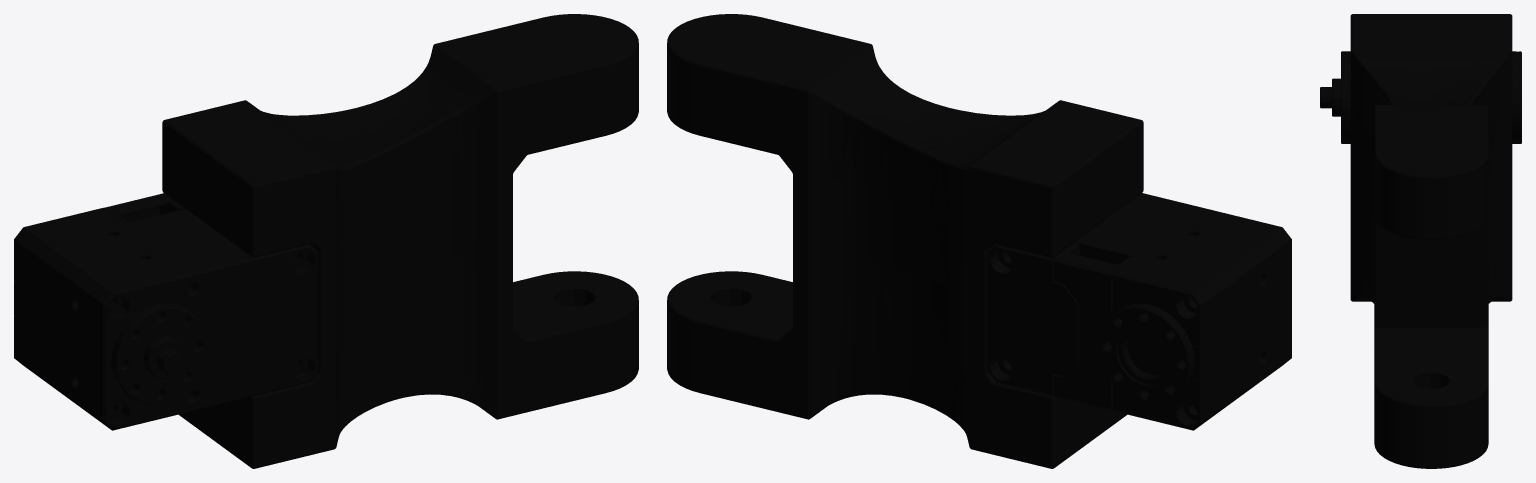
File: arm_proximal_link.obj
The picture shows the model from 3 angles, left to right: view 1: azimuth 30°, elevation 25°; view 2: azimuth 150°, elevation 25°; view 3: azimuth 270°, elevation 25°; orthographic projection. The views are drawn at different scales.
Parts seen in each view (by area): view 1: arm_proximal_link; view 2: arm_proximal_link; view 3: arm_proximal_link.
Boxes of the visible parts, bbox=[...] form: arm_proximal_link: bbox=[14, 14, 638, 468]; arm_proximal_link: bbox=[667, 14, 1291, 468]; arm_proximal_link: bbox=[1320, 14, 1521, 468].
Bounding box in the file's own units: 0.1232 × 0.068 × 0.0424.
Materials: 1 (1 with a texture image).
